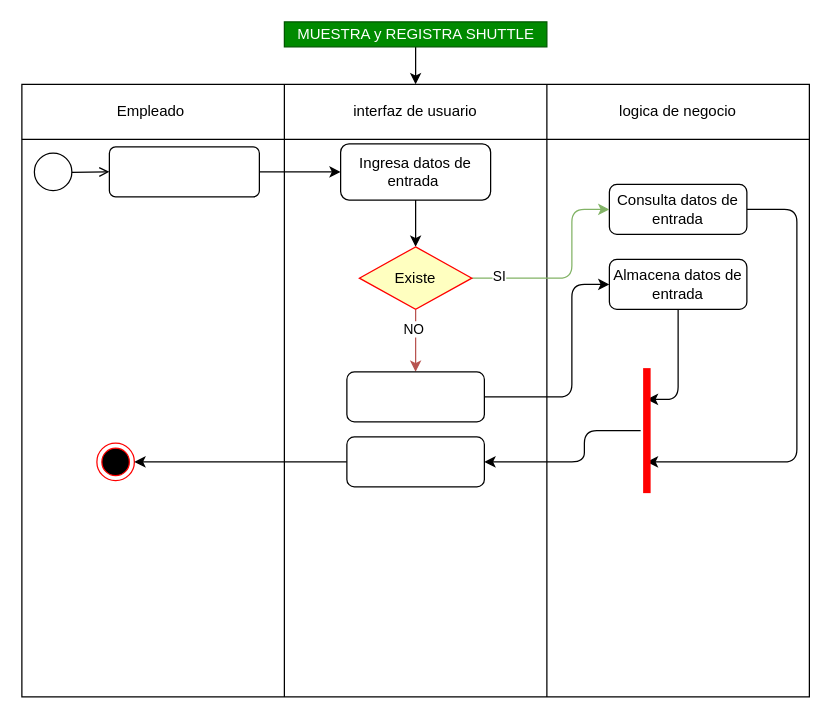
This 831x719 diagram has some shape labels left out. The shapes that lost their labels are listed below. From the top down, each one's box as (x1, y1, x2, y2) in pixels, then its label:
(108, 146, 259, 197): Ingresa tipo de viaje
(346, 371, 484, 422): Crea datos de entrada
(346, 436, 484, 487): Muestra datos de entrada
